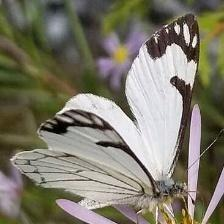butterfly: (12, 14, 200, 220)
